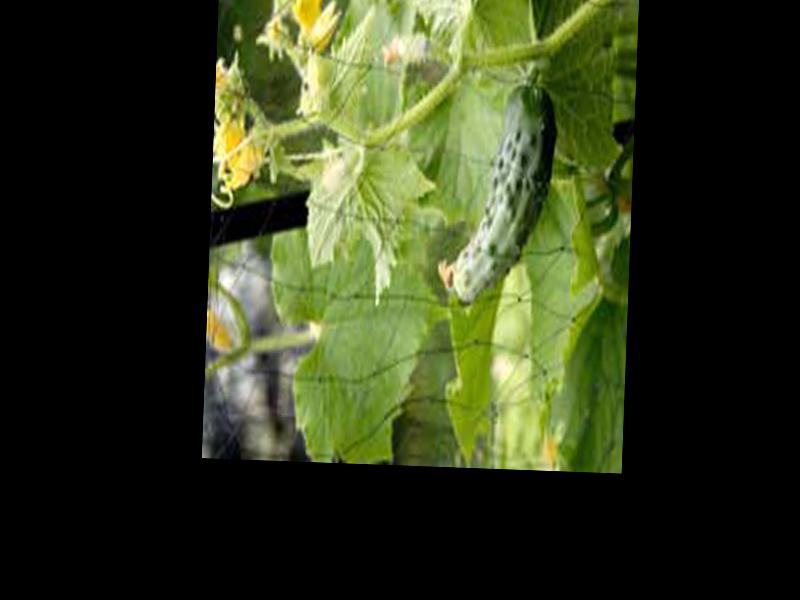Cucumber: (435, 77, 557, 307)
